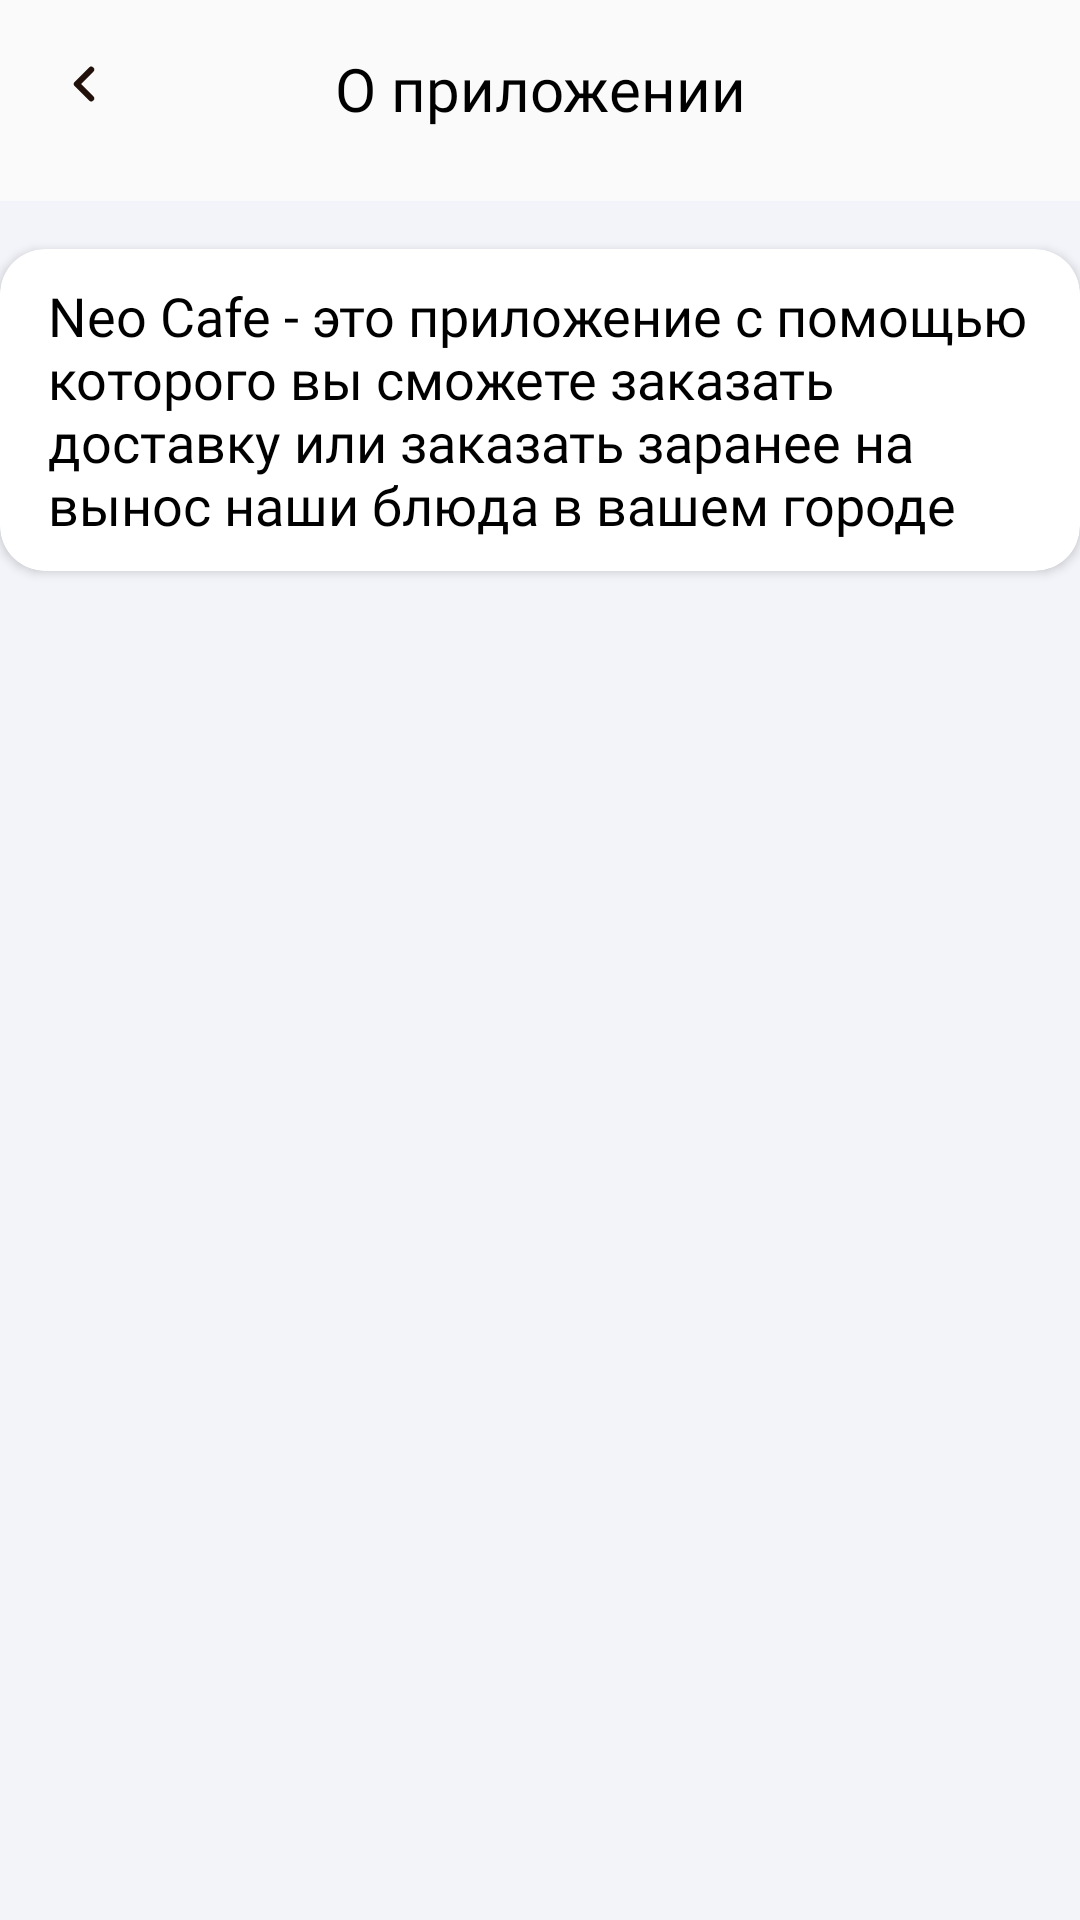

Named icons in this screenshot (1080 x 1920) and their centers, point (x, y):
arrow back: point (84, 84)
